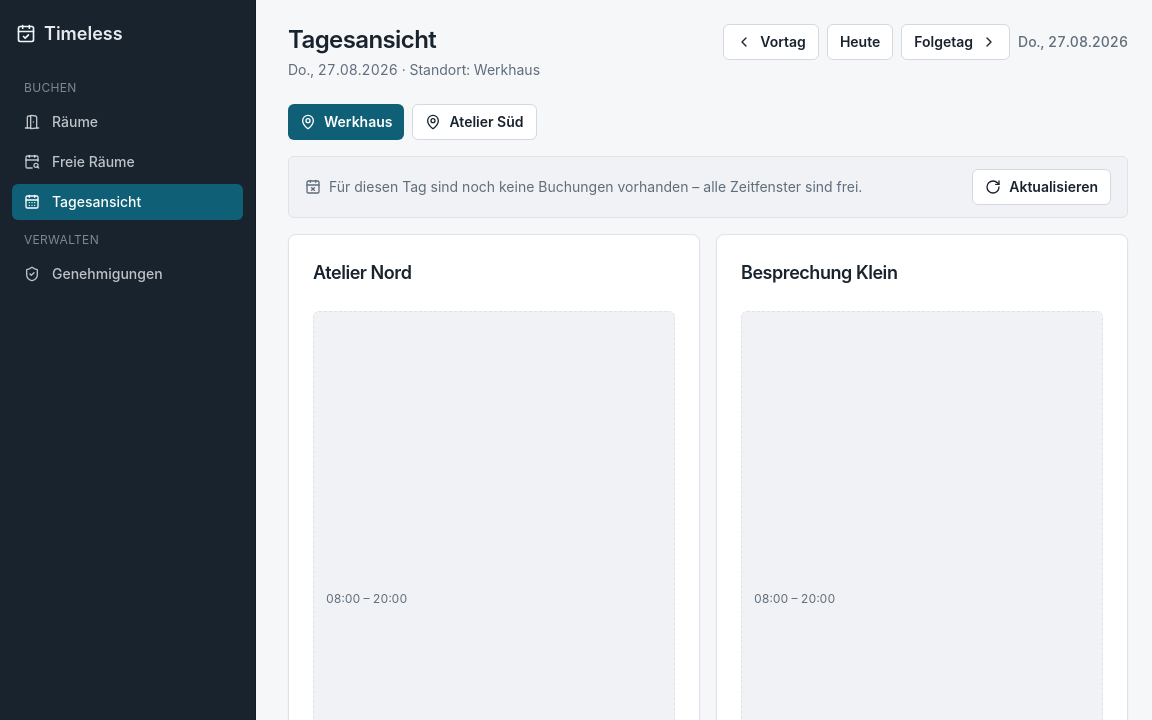
Test case: Tagesansicht – Standortfilterung per URL › zeigt bei mehreren Standorten Wechsel-Links und lädt den gewählten Standort
This screenshot has width=1152, height=720.
Click the link with test id "dayview-location-8": (474, 122) 412,104 -> 536,140
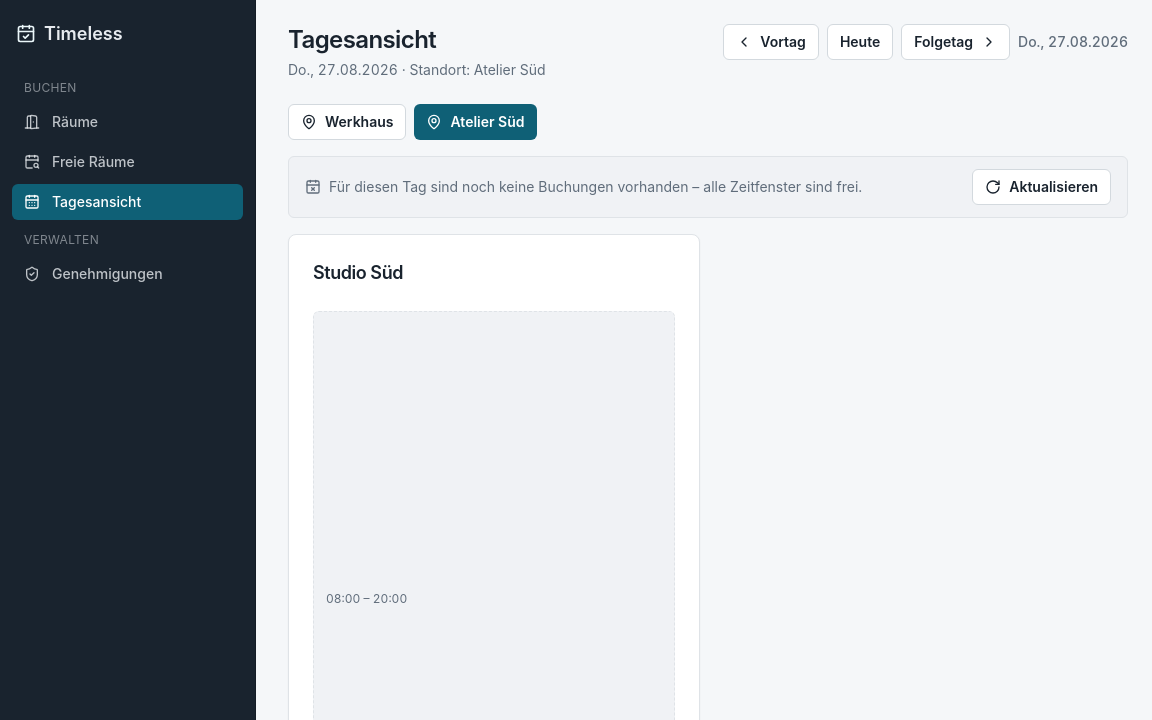
Expected: the heading with test id "timegrid-lane-title-3" reads "Studio Süd", 313,262 -> 403,283
Expected: the heading "Atelier Nord" is gone
Expected: the text with test id "dayview-location-name" reads "Atelier Süd", 474,61 -> 546,78
